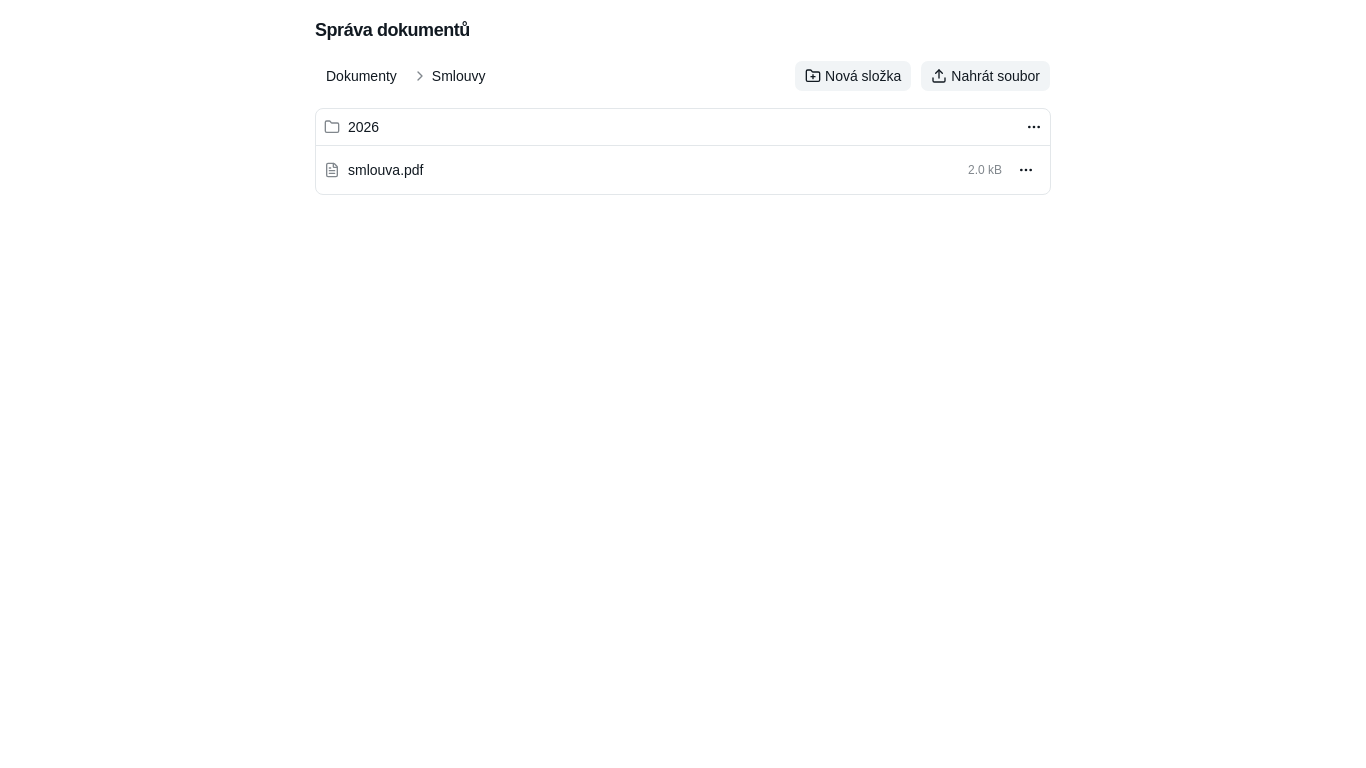
Scenario: delete actions › explains why a non-empty folder cannot be deleted and stays open
Click the 1st button named "Akce položky" at (1034, 127), box [1018,111,1050,143]
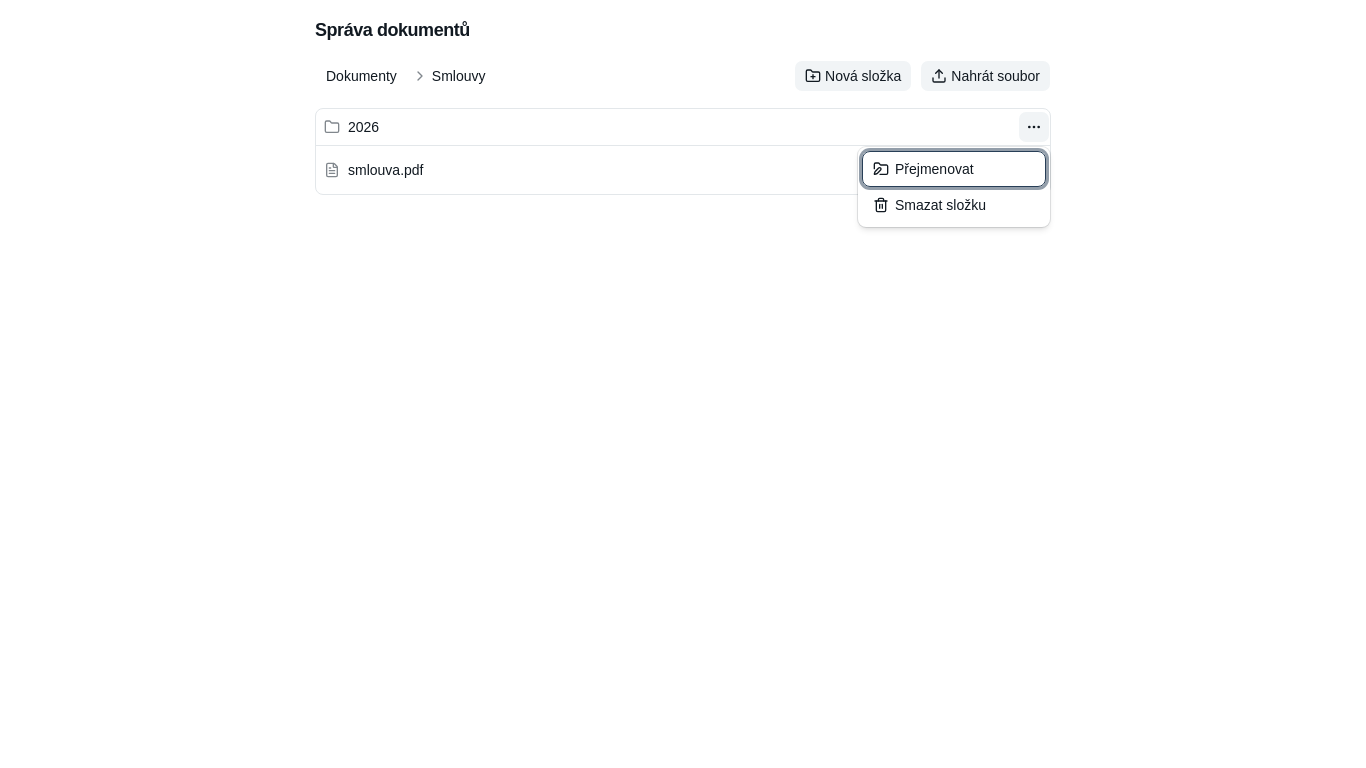
Click the menu item "Smazat složku" at (954, 205), box [862,187,1046,223]
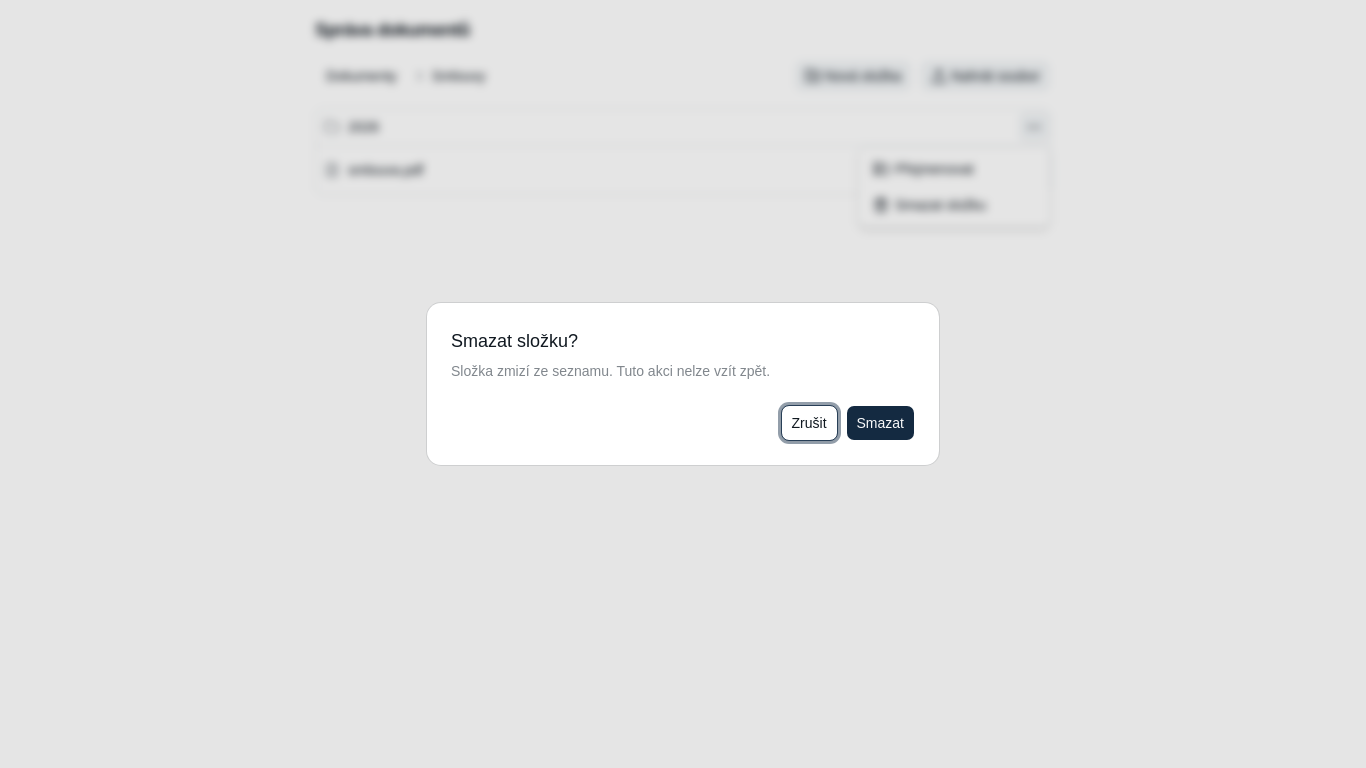
Click the button "Smazat" at (880, 423), box [846,405,915,441]
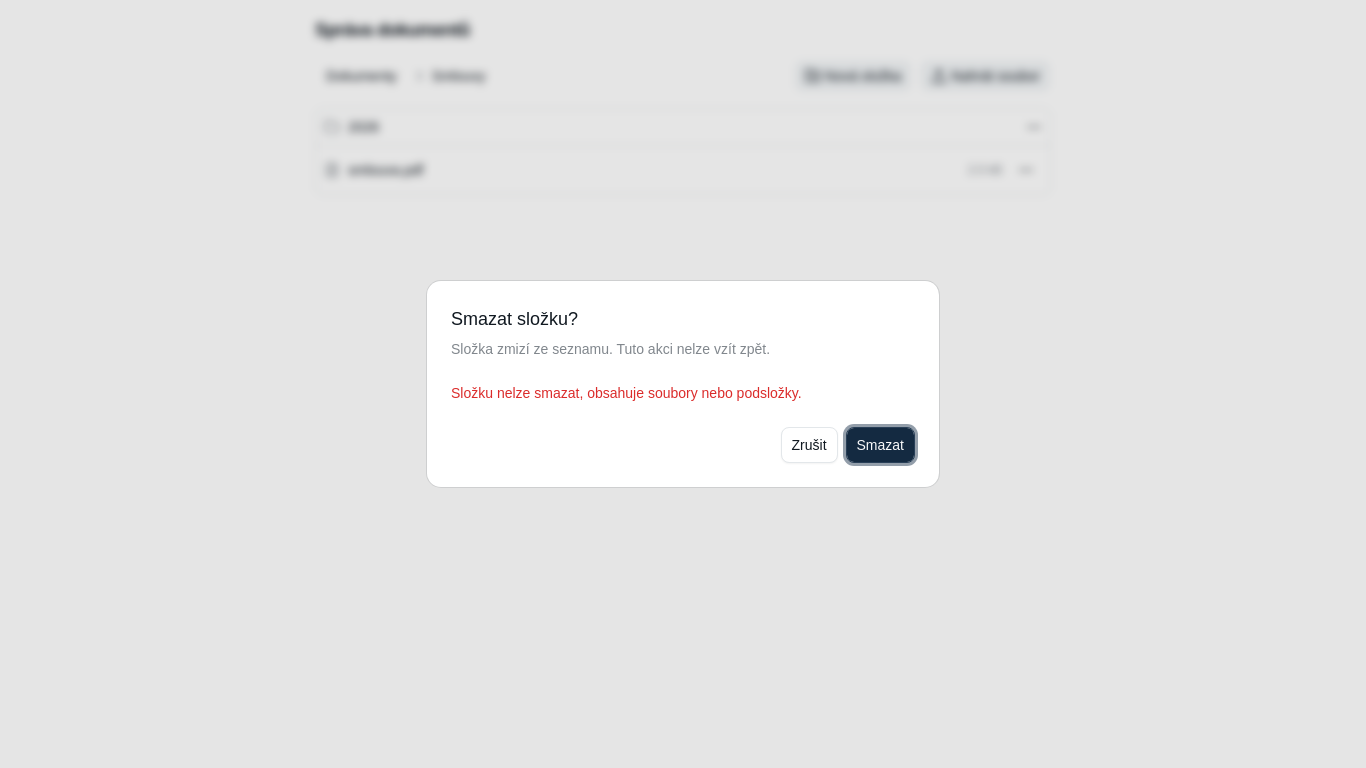
Expected: the text "Složku nelze smazat, obsahuje soubory nebo podsložky." is shown, [451,385,802,401]
